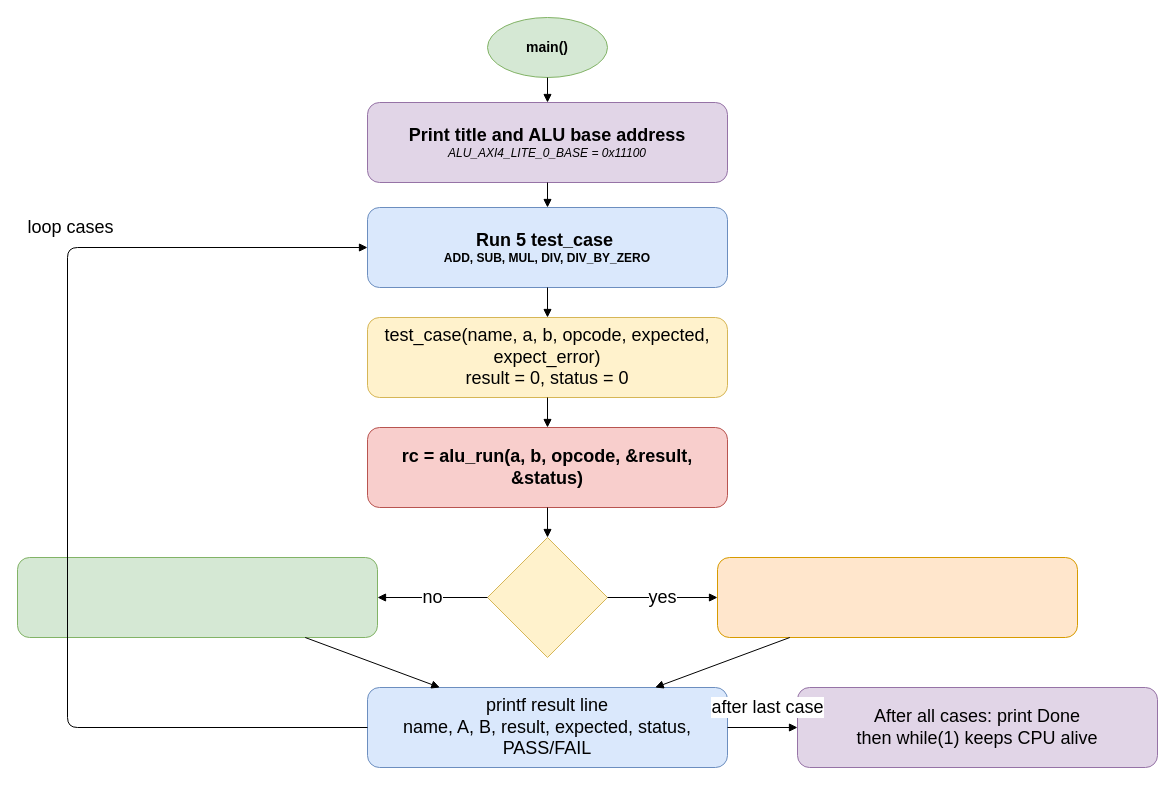
This 1175x785 diagram has some shape labels left out. Here are the shapes that lost their labels. From the top down, the centre of each, then its label:
[197,597]: PASS if rc == 0 and result == expected
[547,597]: expect_error
[897,597]: PASS if rc == -1 and ERROR bit set
